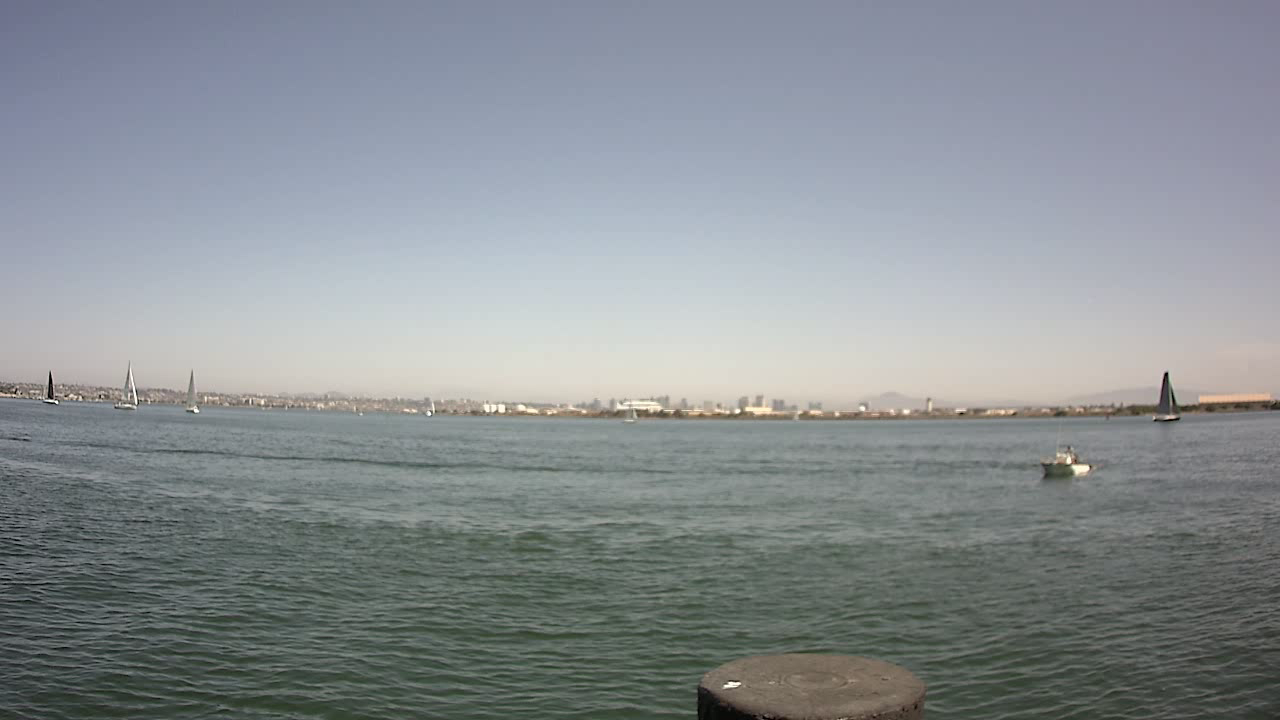target: (1037, 442, 1099, 483)
